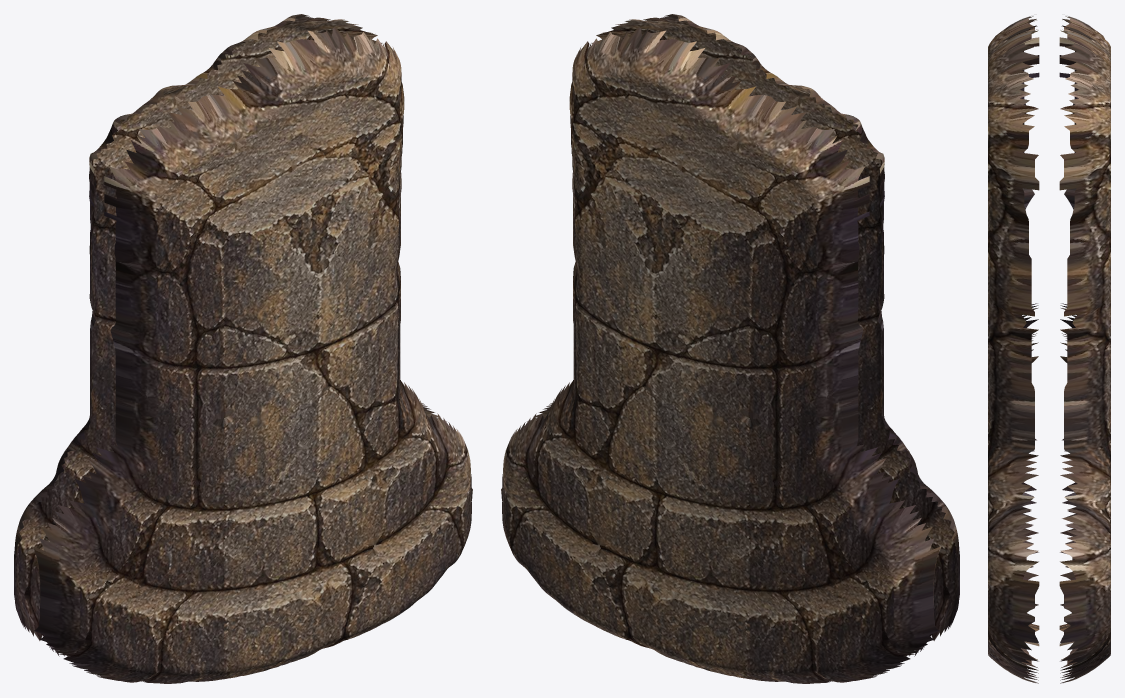
Rendered from v4-shrine-scatter-broken-pillar.glb.
The picture shows the model from 3 angles, left to right: view 1: azimuth 30°, elevation 25°; view 2: azimuth 150°, elevation 25°; view 3: azimuth 270°, elevation 25°; orthographic projection.
Visible parts, largest first — view 1: v4-shrine-scatter-broken-pillar; view 2: v4-shrine-scatter-broken-pillar; view 3: v4-shrine-scatter-broken-pillar.
Boxes of the visible parts, <box> form: v4-shrine-scatter-broken-pillar: <box>14,14,472,683</box>; v4-shrine-scatter-broken-pillar: <box>501,14,959,683</box>; v4-shrine-scatter-broken-pillar: <box>988,16,1110,683</box>.
Size of the model in its own units: 1.25 by 1.73 by 0.3059.
1 material, 1 textured.
